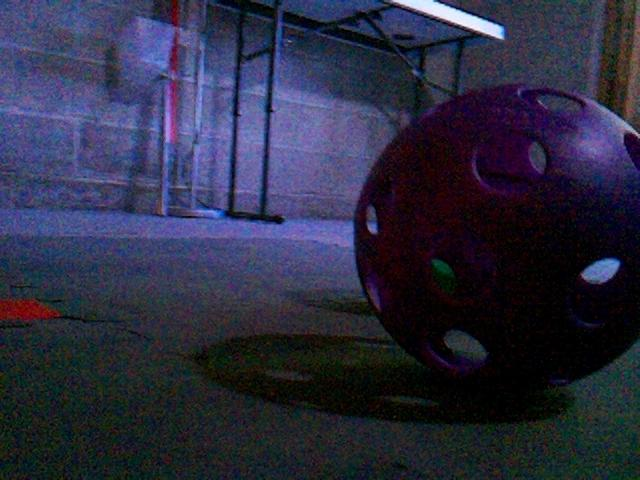Purple: (351, 87, 640, 394)
